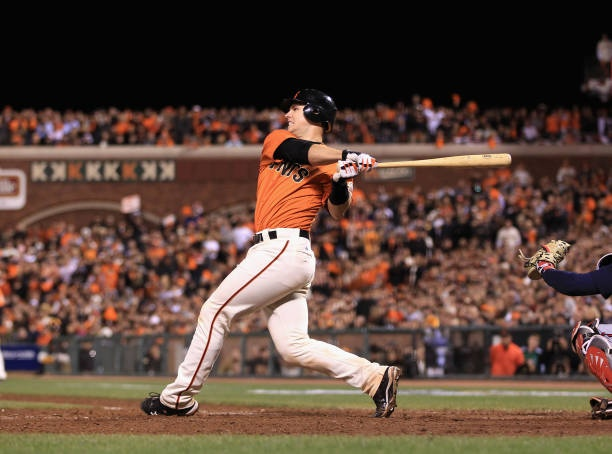bita: (348, 151, 512, 170)
